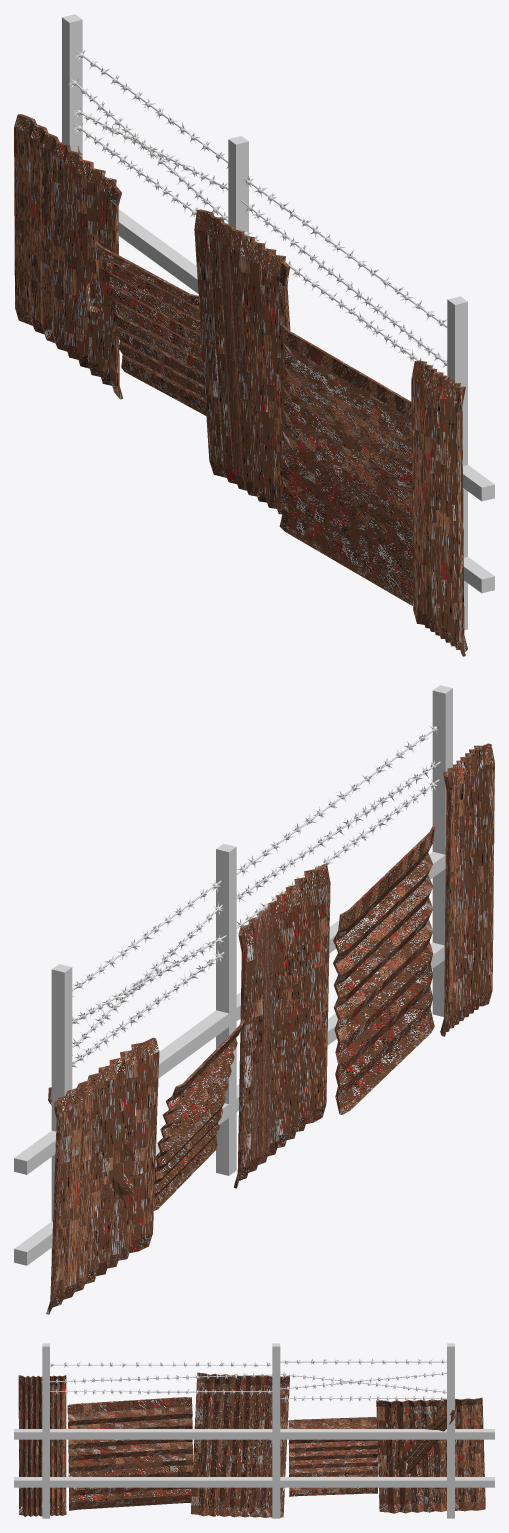
File: fence-straight-simple.fbx
3 views of the same model, one above another, from view 1: azimuth 30°, elevation 25°; view 2: azimuth 150°, elevation 25°; view 3: azimuth 270°, elevation 25° (orthographic). The views are drawn at different scales.
Parts seen in each view (by area): view 1: fenceWall1.004, Cube.004, Icosphere.037; view 2: fenceWall1.004, Cube.004, Icosphere.037; view 3: fenceWall1.004, Cube.004, Icosphere.037.
Boxes of the visible parts, x1,y1,x2,y2 form: fenceWall1.004: (14,114,467,656); Cube.004: (62,14,494,630); Icosphere.037: (68,50,461,375); fenceWall1.004: (46,743,494,1314); Cube.004: (14,685,452,1265); Icosphere.037: (72,726,440,1067); fenceWall1.004: (18,1372,485,1517); Cube.004: (14,1343,494,1518); Icosphere.037: (41,1358,446,1401).
Bounding box in the file's own units: 4.62 × 25.16 × 62.3.
